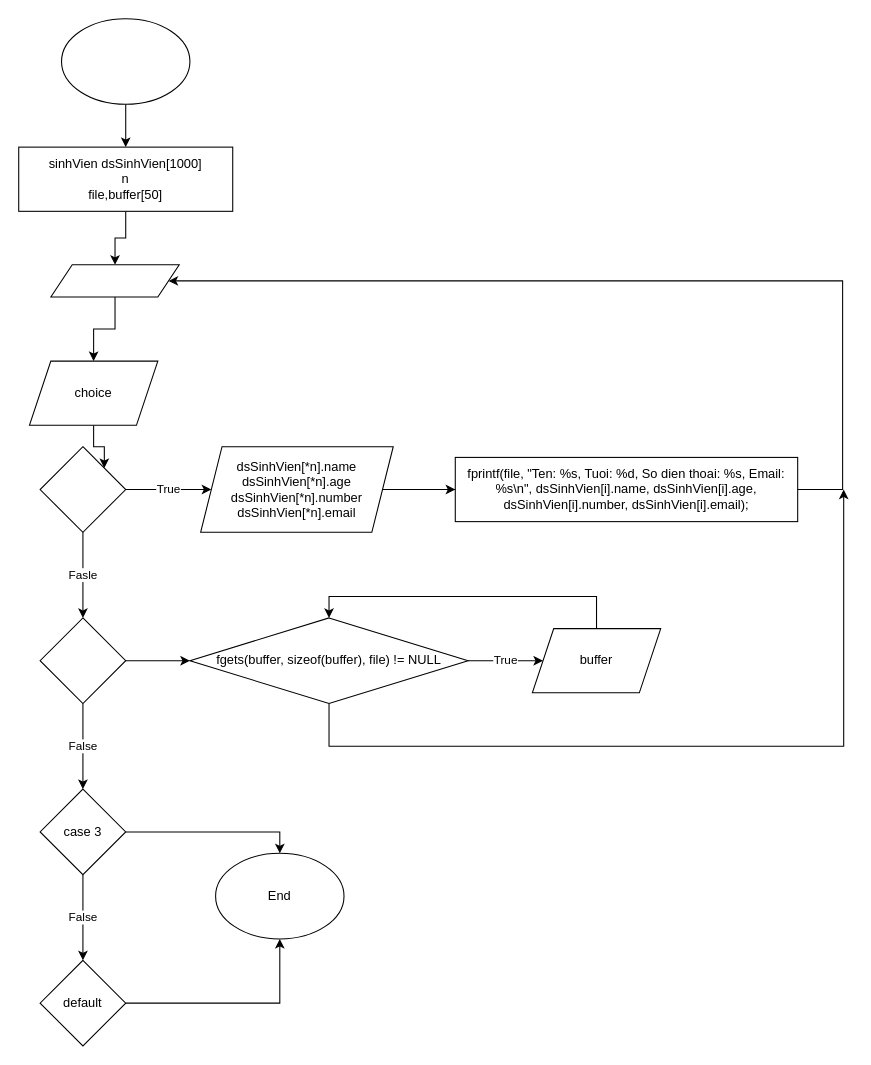
Some shapes in this 871 by 1065 pixel diagram are drawn without their labels. The shapes that lost their labels are listed below. From the top down, each one's centre as x and y in pixels, then its label:
At (125,61): "Start".
At (114,280): "MENU".
At (82,489): "case 1".
At (82,660): "case 2".
